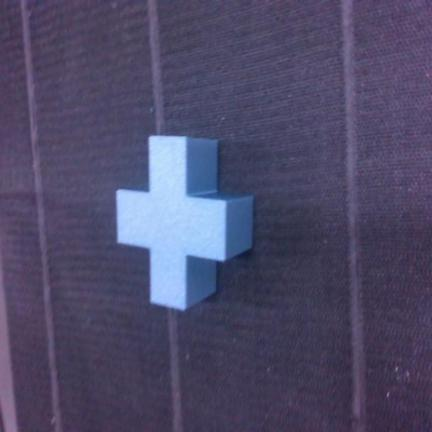cross: (117, 136, 253, 309)
